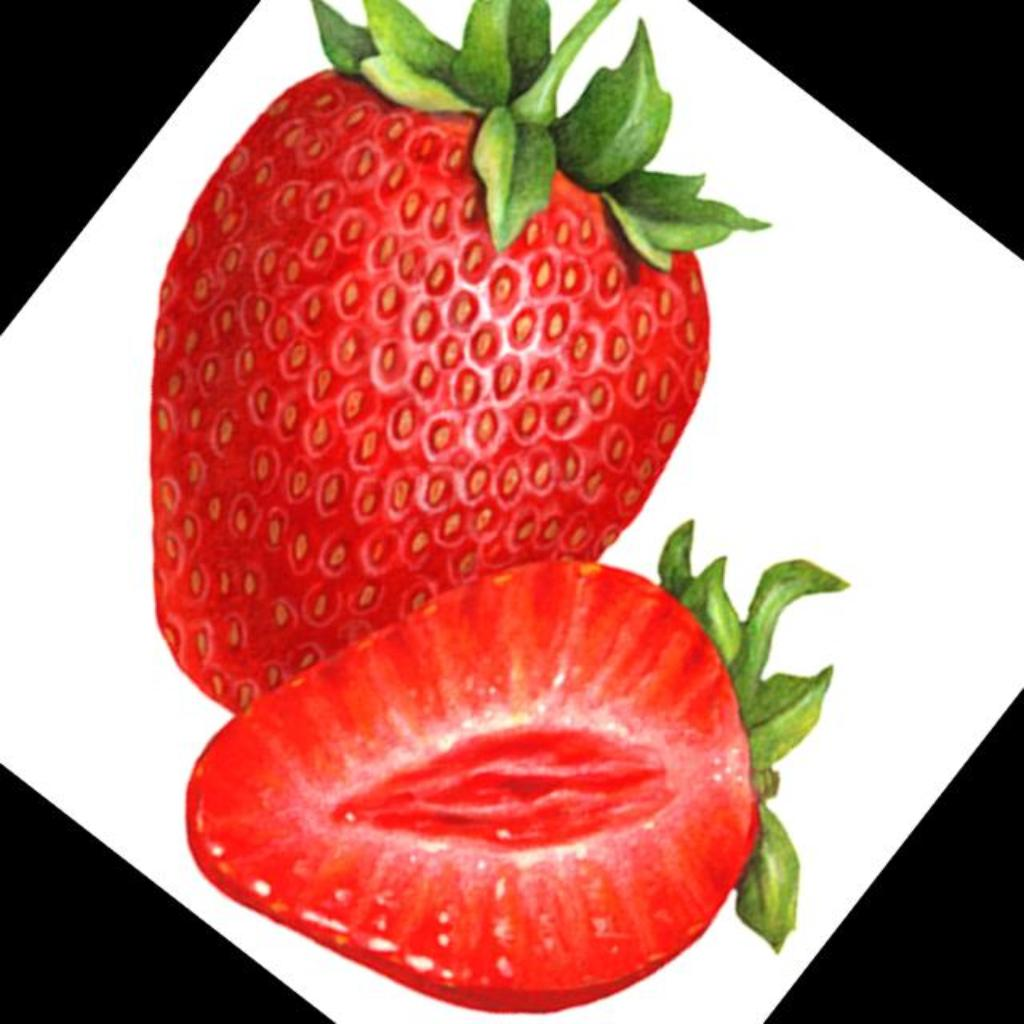strawberry: (156, 0, 764, 709), (188, 524, 844, 1012)
